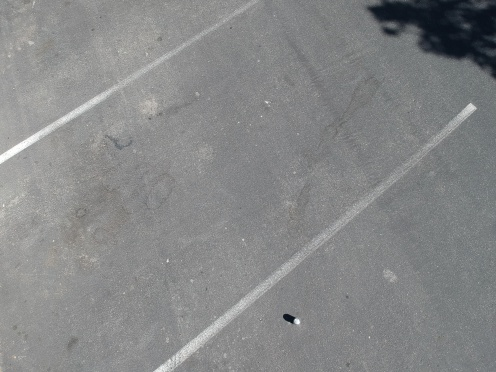can: (285, 314, 306, 331)
